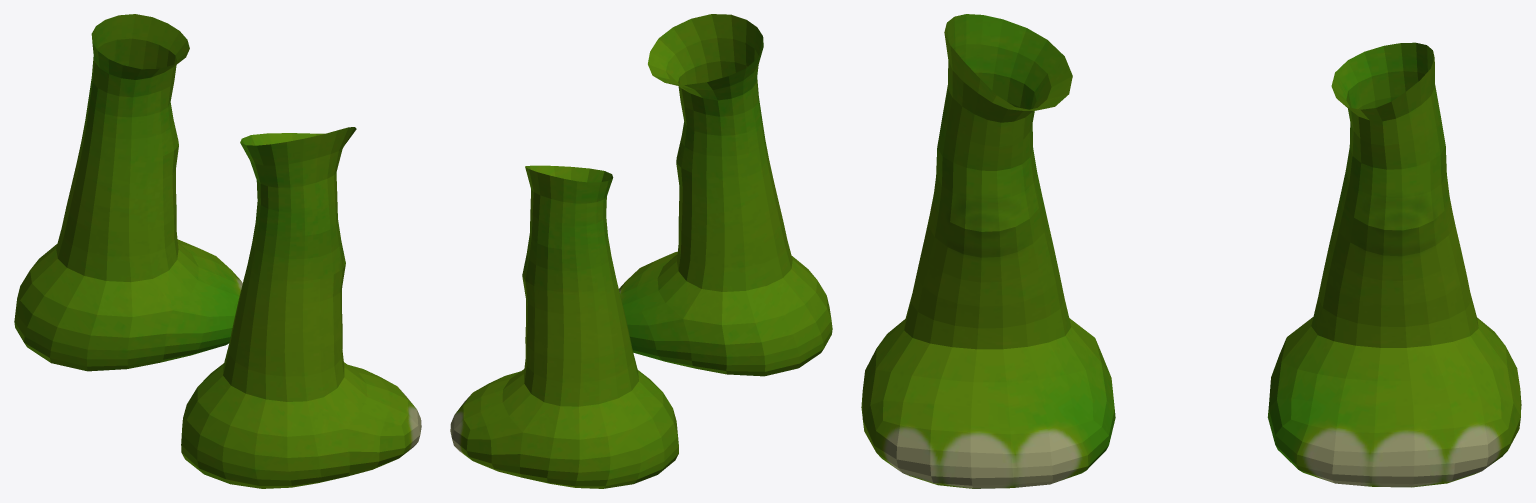
Rendered from PiesA.obj.
3 views of the same model, side by side, from view 1: azimuth 30°, elevation 25°; view 2: azimuth 150°, elevation 25°; view 3: azimuth 270°, elevation 25° (orthographic). The views are drawn at different scales.
Visible parts, largest first — view 1: polySurface3 Pies:Mesh; view 2: polySurface3 Pies:Mesh; view 3: polySurface3 Pies:Mesh.
Boxes of the visible parts, x1=… form: polySurface3 Pies:Mesh: x1=14, y1=14, x2=421, y2=488; polySurface3 Pies:Mesh: x1=450, y1=14, x2=832, y2=488; polySurface3 Pies:Mesh: x1=861, y1=14, x2=1521, y2=488.
Size of the model in its own units: 0.6295 by 0.9225 by 1.36.
1 material, 1 textured.
